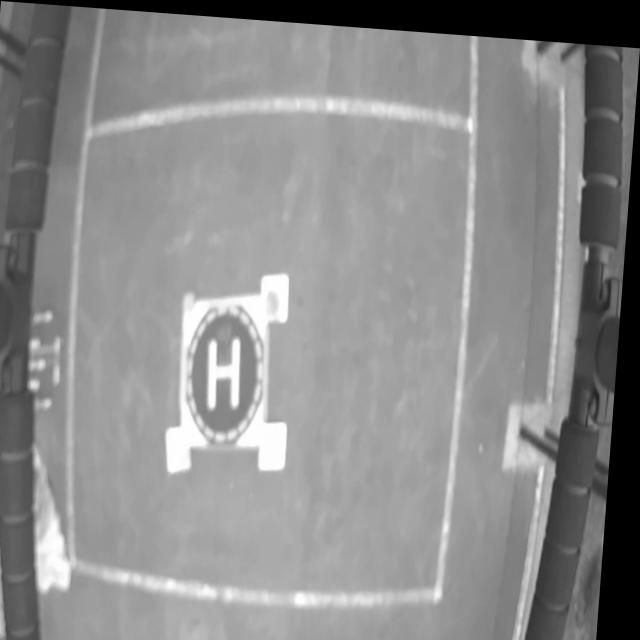Helipad: (212, 330, 245, 404)
